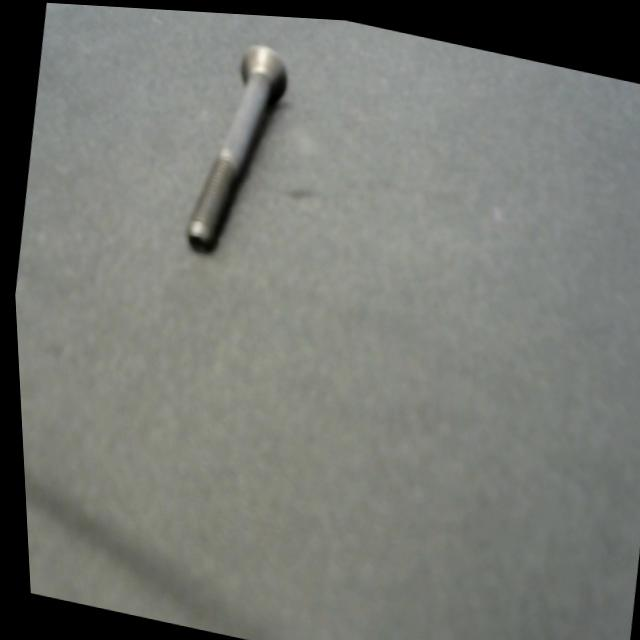FlatHeadSocketScrew: (164, 24, 304, 275)
